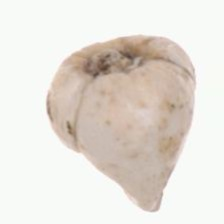L3: (130, 190, 164, 213)
L4: (45, 35, 196, 212)
